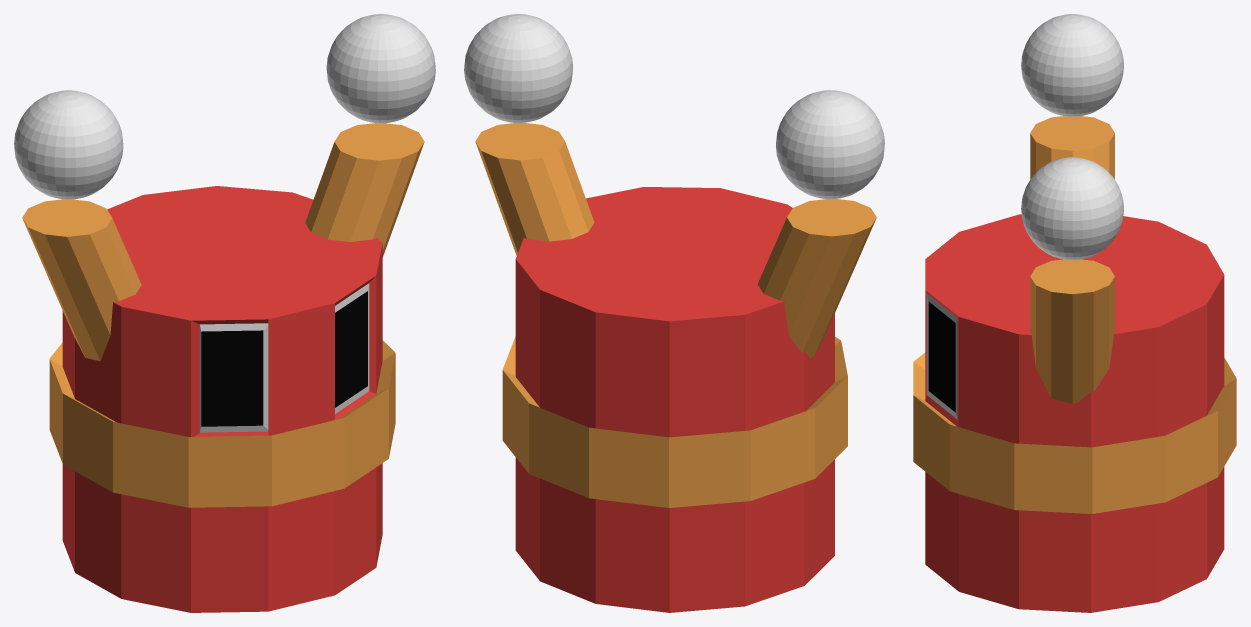
The model's file is Flamem.fbx.
The picture shows the model from 3 angles, left to right: view 1: azimuth 30°, elevation 25°; view 2: azimuth 150°, elevation 25°; view 3: azimuth 270°, elevation 25°; orthographic projection. The views are drawn at different scales.
Parts seen in each view (by area): view 1: Cylinder, Torus, Sphere, Sphere.001; view 2: Cylinder, Torus, Sphere, Sphere.001; view 3: Cylinder, Torus, Sphere.001, Sphere.
Boxes of the visible parts, box(x1,y1,x2,y2) form: Cylinder: box(49, 186, 395, 612); Torus: box(22, 123, 424, 361); Sphere: box(14, 90, 123, 199); Sphere.001: box(326, 14, 435, 123); Cylinder: box(502, 187, 847, 612); Torus: box(475, 123, 876, 357); Sphere: box(776, 90, 884, 199); Sphere.001: box(464, 14, 572, 123); Cylinder: box(913, 214, 1236, 612); Torus: box(1030, 116, 1114, 403); Sphere.001: box(1021, 157, 1123, 260); Sphere: box(1021, 14, 1123, 116).
Size of the model in its own units: 292 by 334 by 213.
